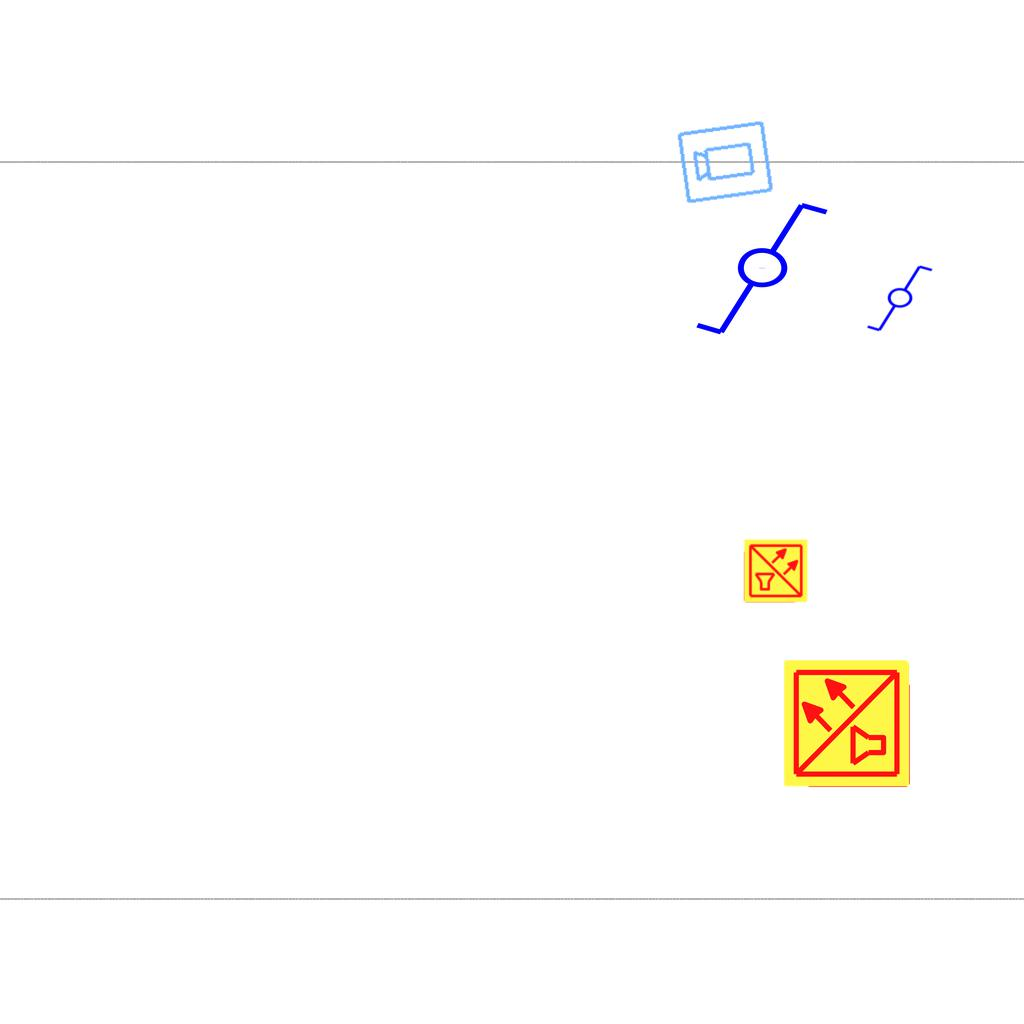KFO_Kamera_mit_Festobjektiv: (675, 117, 776, 206)
OKW_Multisensormelder_(Kombination_optischer_Rauch-Kahlenmonoxid_Waerme-Melder): (781, 657, 913, 789), (743, 538, 809, 604)
Wechselschalter: (692, 198, 849, 342), (865, 263, 943, 335)
